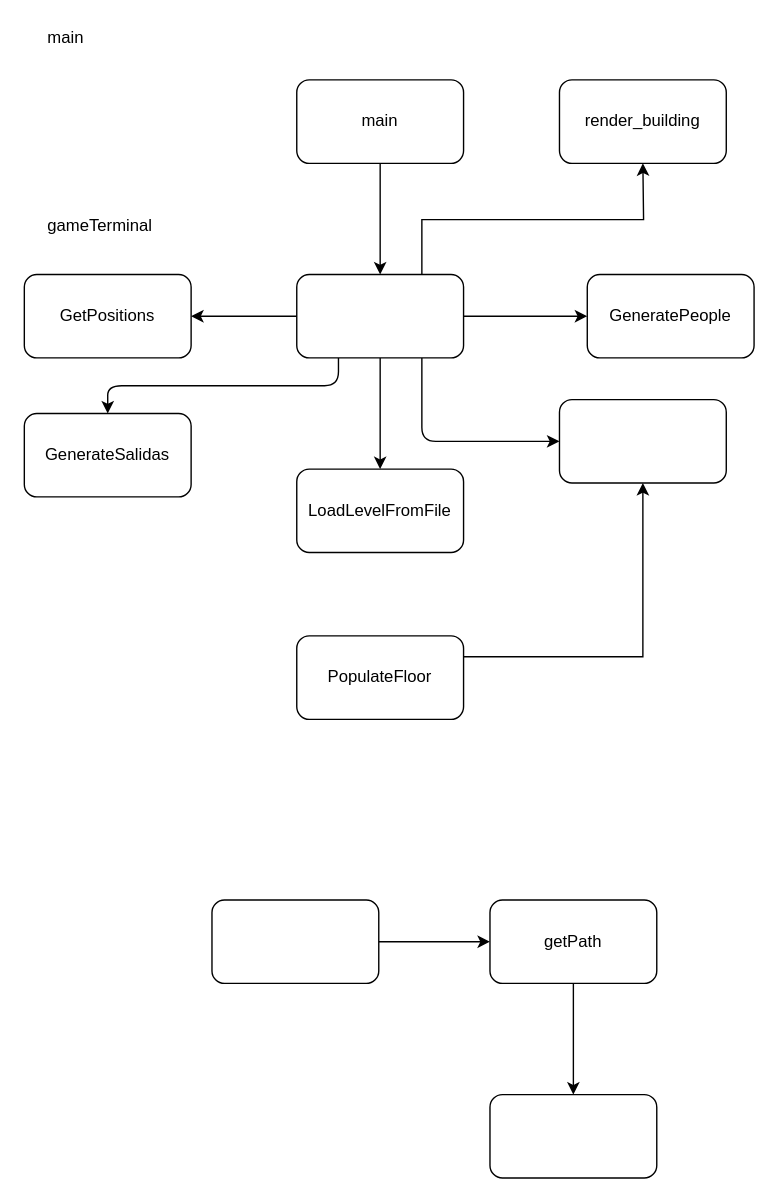
The diagram is 778 pixels wide and 1202 high, and some of its shapes have lost their labels. Each missing label, with the centre of its shape:
get_floor: the point at 642,440
People: the point at 295,941
run: the point at 573,1135
Start: the point at 379,315
